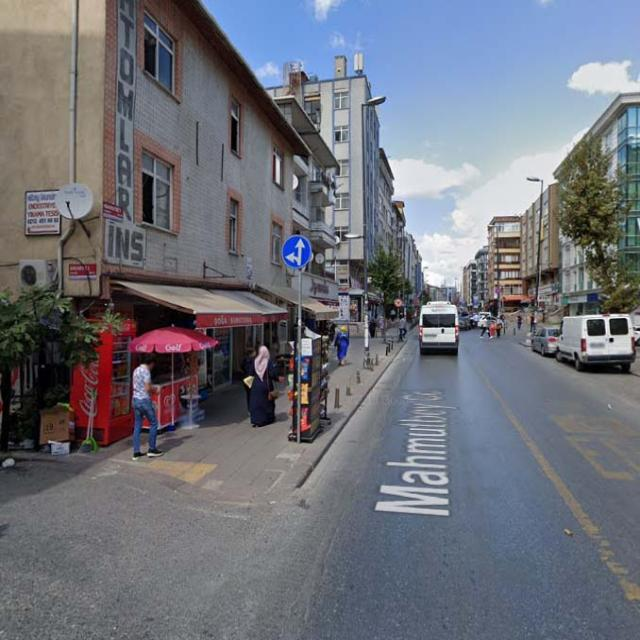ilerisol: (282, 234, 312, 269)
